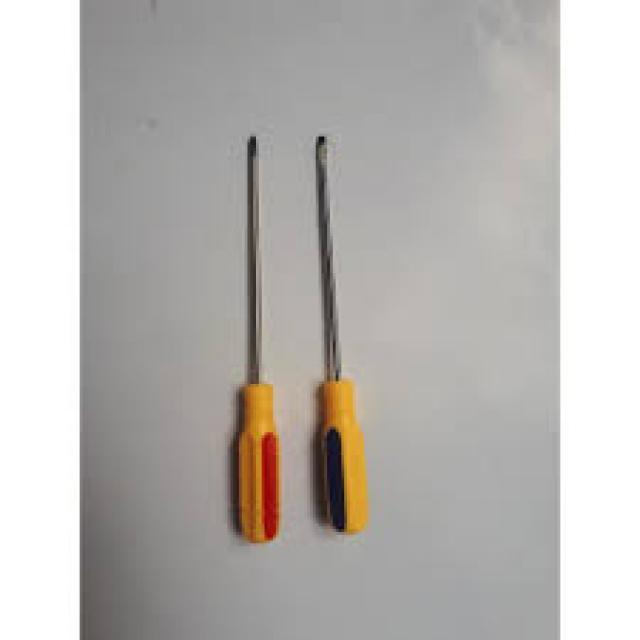screwdriver: (312, 132, 374, 536), (232, 132, 283, 545)
